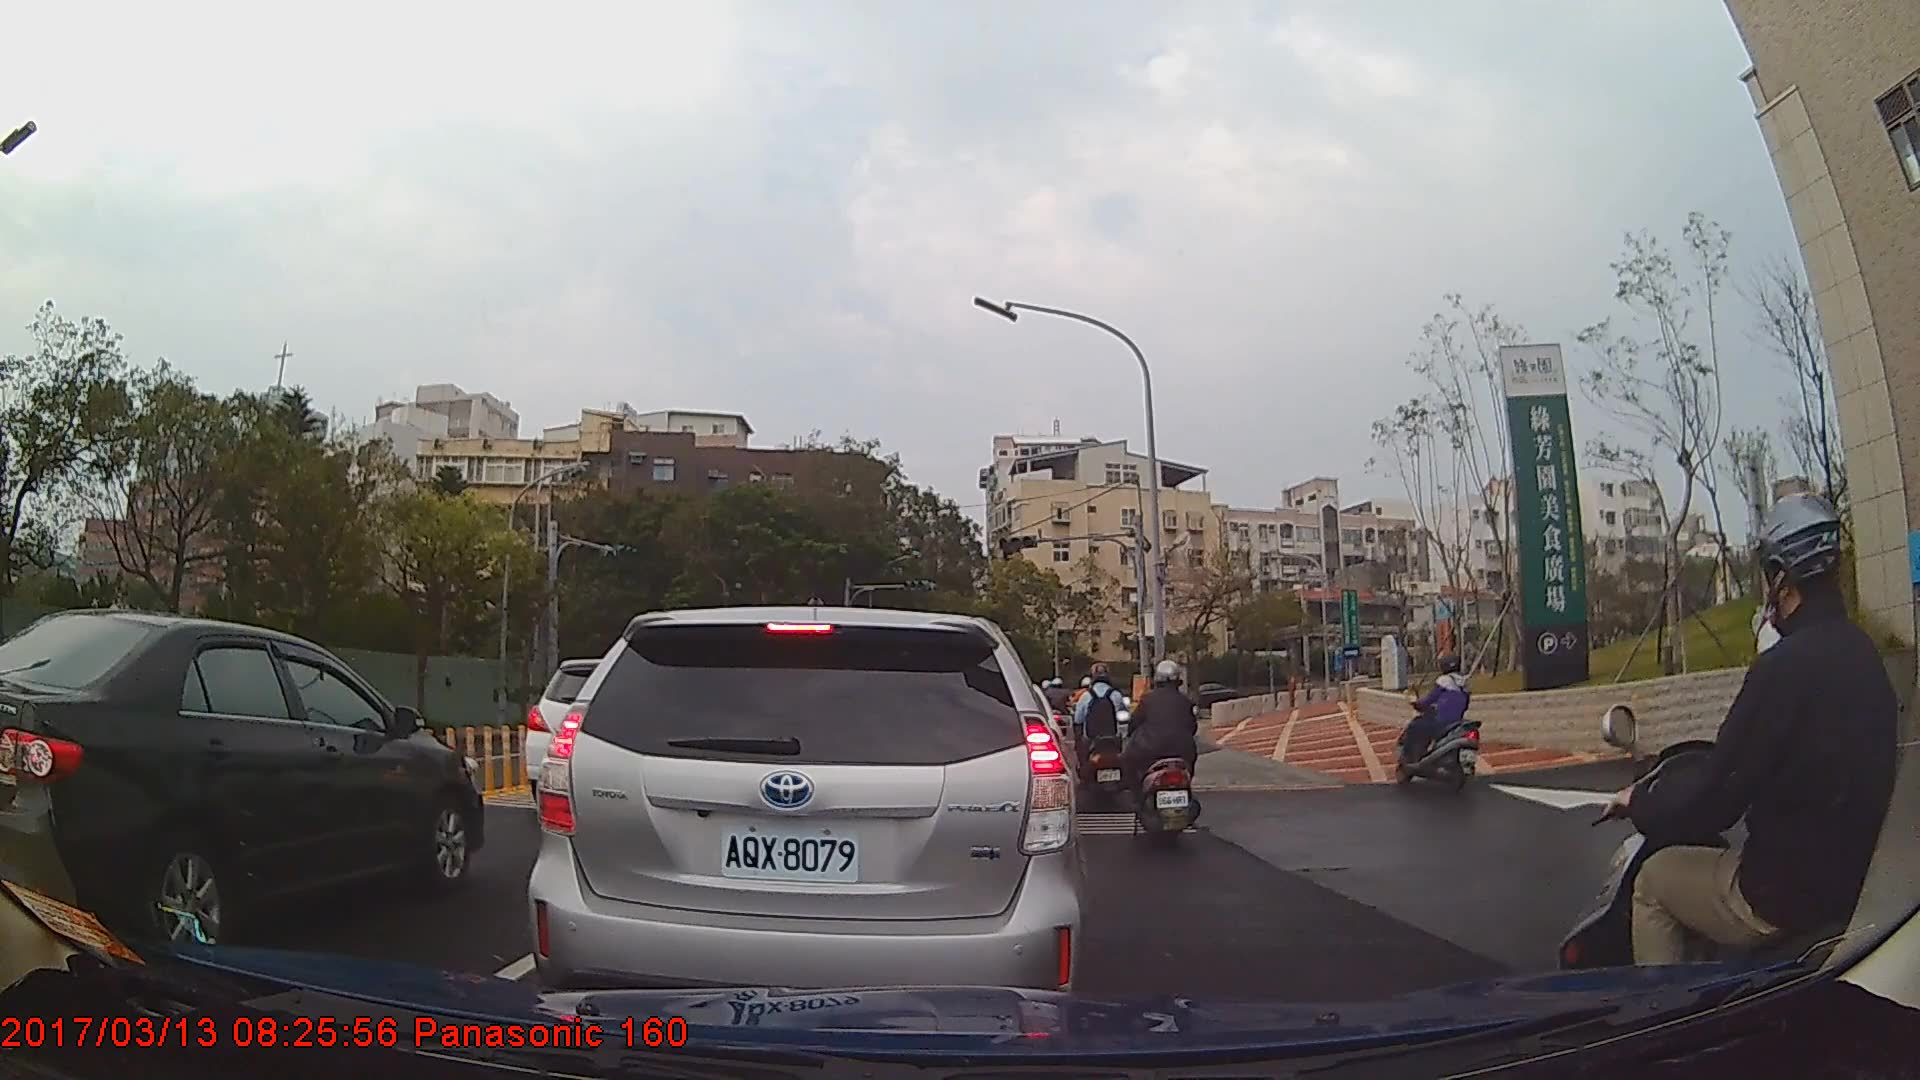rider: (1550, 491, 1920, 1080), (1122, 658, 1202, 843), (1393, 651, 1487, 794), (1072, 659, 1132, 812)
vehicle: (527, 602, 1080, 1033), (0, 608, 486, 956), (1169, 679, 1237, 713)
